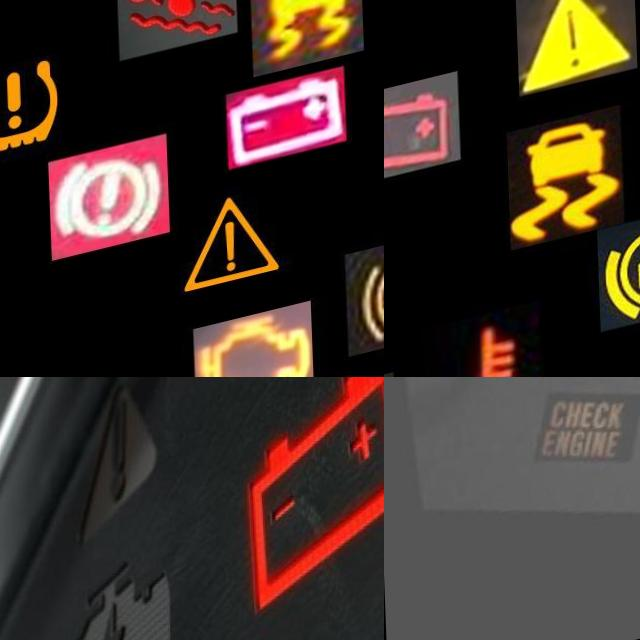Central Warning lamp: (167, 189, 288, 330), (514, 0, 635, 111)
Engine cooling system: (115, 0, 236, 76), (419, 315, 540, 377)
